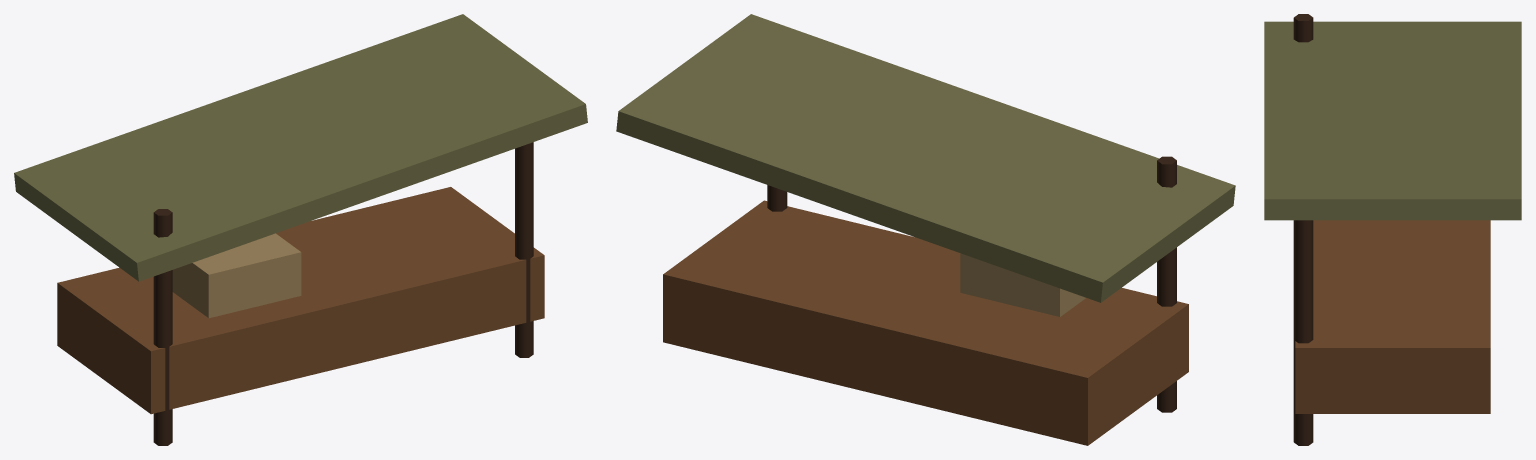
The model's file is market-stall.glb.
3 renders of one model, left to right at view 1: azimuth 30°, elevation 25°; view 2: azimuth 150°, elevation 25°; view 3: azimuth 270°, elevation 25°, orthographic. The views are drawn at different scales.
Parts seen in each view (by area): view 1: awning, stallCounter, produceCrate, postRight, postLeft; view 2: awning, stallCounter, produceCrate, postLeft; view 3: awning, stallCounter, postRight, postLeft.
Part boxes in pixels (box(x1,y1,x2,y2)): awning: box(14, 14, 587, 281); stallCounter: box(57, 187, 544, 414); produceCrate: box(172, 233, 301, 318); postRight: box(515, 142, 533, 357); postLeft: box(153, 209, 172, 445); awning: box(616, 14, 1235, 302); stallCounter: box(663, 200, 1188, 445); produceCrate: box(960, 253, 1085, 316); postLeft: box(1157, 156, 1176, 412); awning: box(1264, 21, 1521, 220); stallCounter: box(1295, 220, 1490, 413); postRight: box(1293, 220, 1313, 445); postLeft: box(1293, 14, 1313, 42).
Size of the model in its own units: 1.95 by 1.05 by 0.92.
